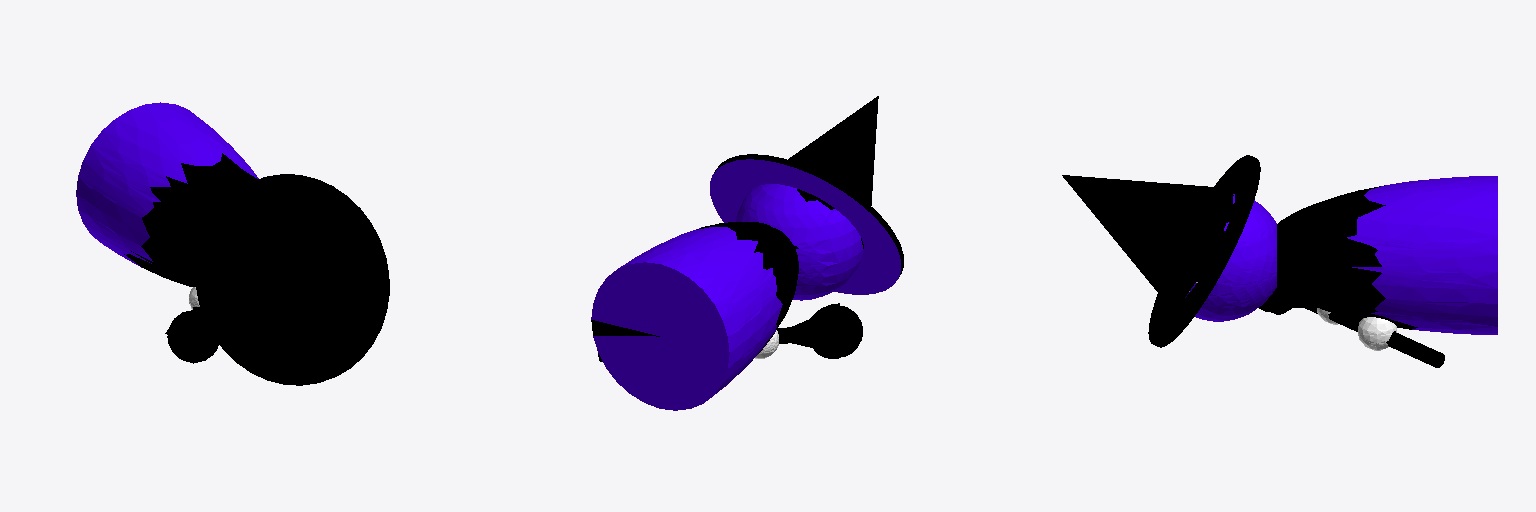
Rendered from PurplePawn.obj.
The picture shows the model from 3 angles: view 1: azimuth 30°, elevation 25°; view 2: azimuth 150°, elevation 25°; view 3: azimuth 270°, elevation 25°; orthographic projection.
Visible parts, largest first — view 1: WizardPawn; view 2: WizardPawn; view 3: WizardPawn.
Part boxes in pixels (x1,y1,x2,y2): WizardPawn: (76,102,389,385); WizardPawn: (591,96,903,410); WizardPawn: (1062,155,1497,367).
Size of the model in its own units: 14.59 by 13.3 by 29.5.